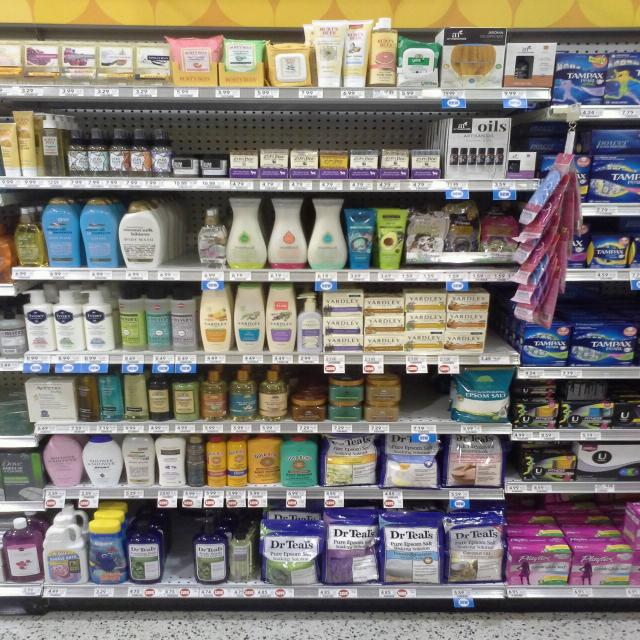unorganised: (445, 202, 481, 259), (481, 203, 519, 257), (246, 438, 282, 485), (532, 129, 584, 156)
